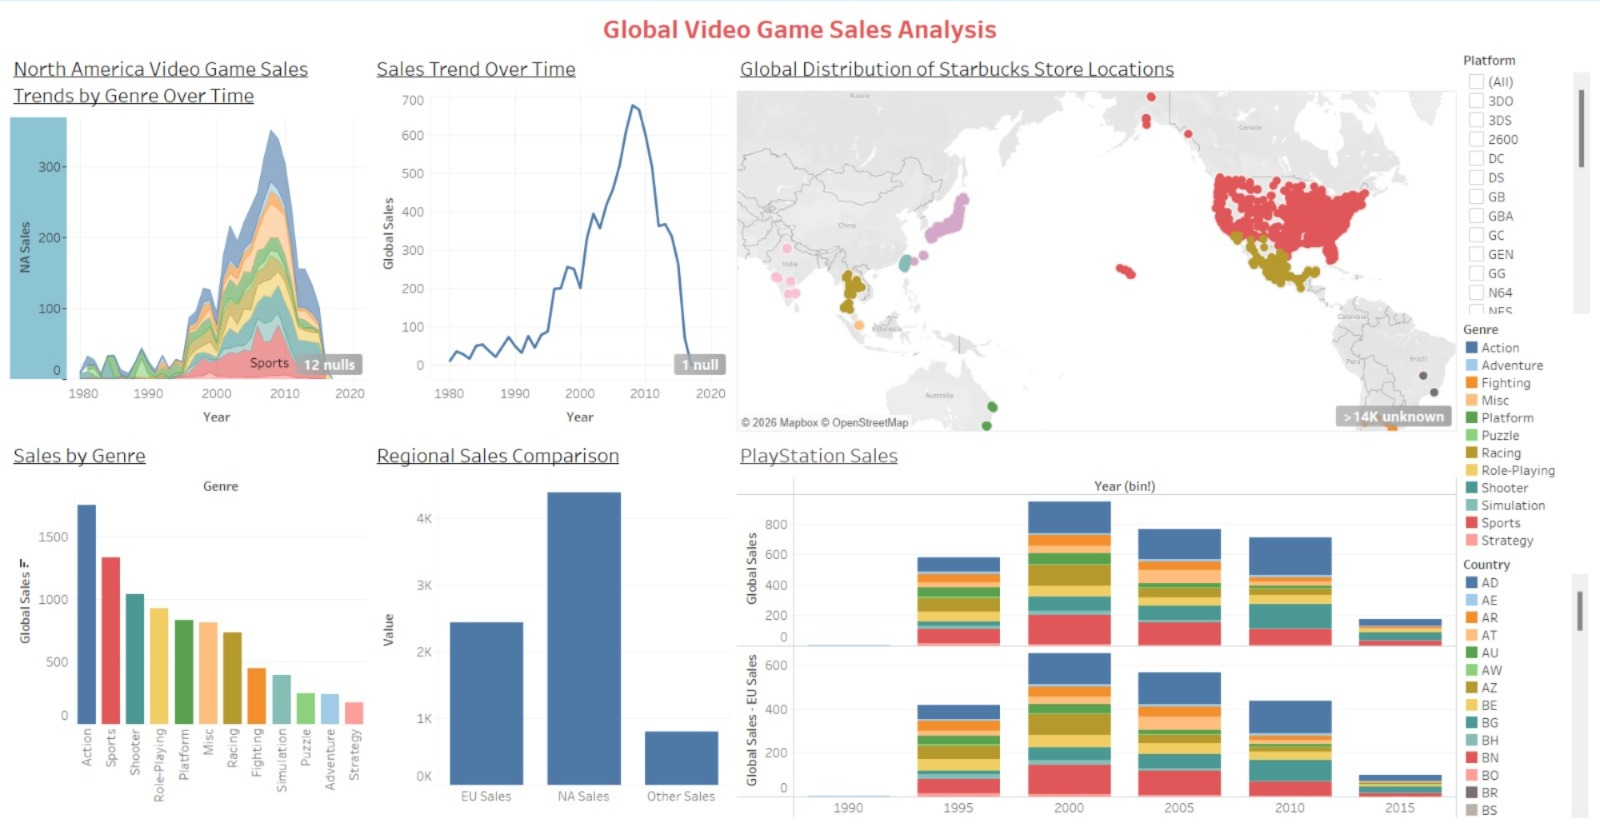

What the dashboard file says about the page in this screenshot:
{"tool":"tableau","page":{"name":"Dashboard 1","canvas":[1000,1000],"units":"permille","ordinal":0},"visuals":[{"type":"title","box":[4.8,10,990.3,61.2]},{"type":"worksheet","title":"Sheet 5","mark":"Area","rows":["NA_Sales"],"cols":["Year"],"box":[4.8,71.2,223.4,459.4]},{"type":"worksheet","title":"Sheet 6","mark":"Automatic","rows":["Global_Sales"],"cols":["Year"],"box":[228.2,71.2,223.5,459.4]},{"type":"worksheet","title":"Sheet 4","mark":"Automatic","box":[451.7,71.2,446.9,459.4]},{"type":"filter","title":"Sheet 1","param":"[federated.0z9ba031ossgnx17jbdqi0tqz3wl].[none:Platform:nk]","box":[898.6,71.2,96.6,306.3]},{"type":"legend","title":"Sheet 1","param":"[federated.0z9ba031ossgnx17jbdqi0tqz3wl].[none:Genre:nk]","box":[898.6,377.4,96.6,306.3]},{"type":"worksheet","title":"Sheet 2","mark":"Automatic","rows":["Global_Sales"],"cols":["Genre"],"box":[4.8,530.5,223.4,459.5]},{"type":"worksheet","title":"Sheet 7","mark":"Automatic","box":[228.2,530.5,223.5,459.5]},{"type":"worksheet","title":"Sheet 1","mark":"Automatic","rows":["Global_Sales","Calculation_883549988852887552"],"cols":["Year (bin)"],"box":[451.7,530.5,446.9,459.5]},{"type":"legend","title":"Sheet 4","param":"[federated.0aoynp715tt6lu1gi267r000tty0].[none:Country:nk]","box":[898.6,683.7,96.6,306.3]}]}

Visuals, with their boxes on the dashboard's canvas, which has no fixed pixel size, in thousandths of its width and height (x1, y1, x2, y2). These are canvas units, not pixel positions in the 1600x824 screenshot, which may show the page scaled, cropped or inside an application window:
title: BBox(5, 10, 995, 71)
"Sheet 5" worksheet (Area marks): BBox(5, 71, 228, 531)
"Sheet 6" worksheet: BBox(228, 71, 452, 531)
"Sheet 4" worksheet: BBox(452, 71, 899, 531)
"Sheet 1" filter: BBox(899, 71, 995, 378)
"Sheet 1" legend: BBox(899, 377, 995, 684)
"Sheet 2" worksheet: BBox(5, 530, 228, 990)
"Sheet 7" worksheet: BBox(228, 530, 452, 990)
"Sheet 1" worksheet: BBox(452, 530, 899, 990)
"Sheet 4" legend: BBox(899, 684, 995, 990)
